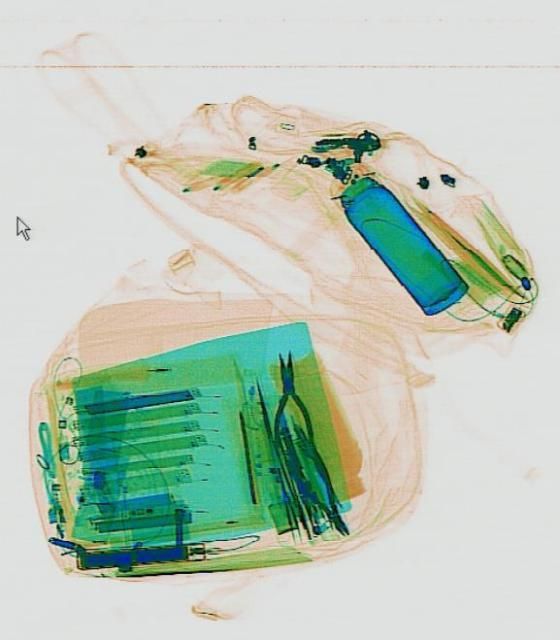Pliers: (274, 429, 362, 546), (262, 348, 312, 448)
